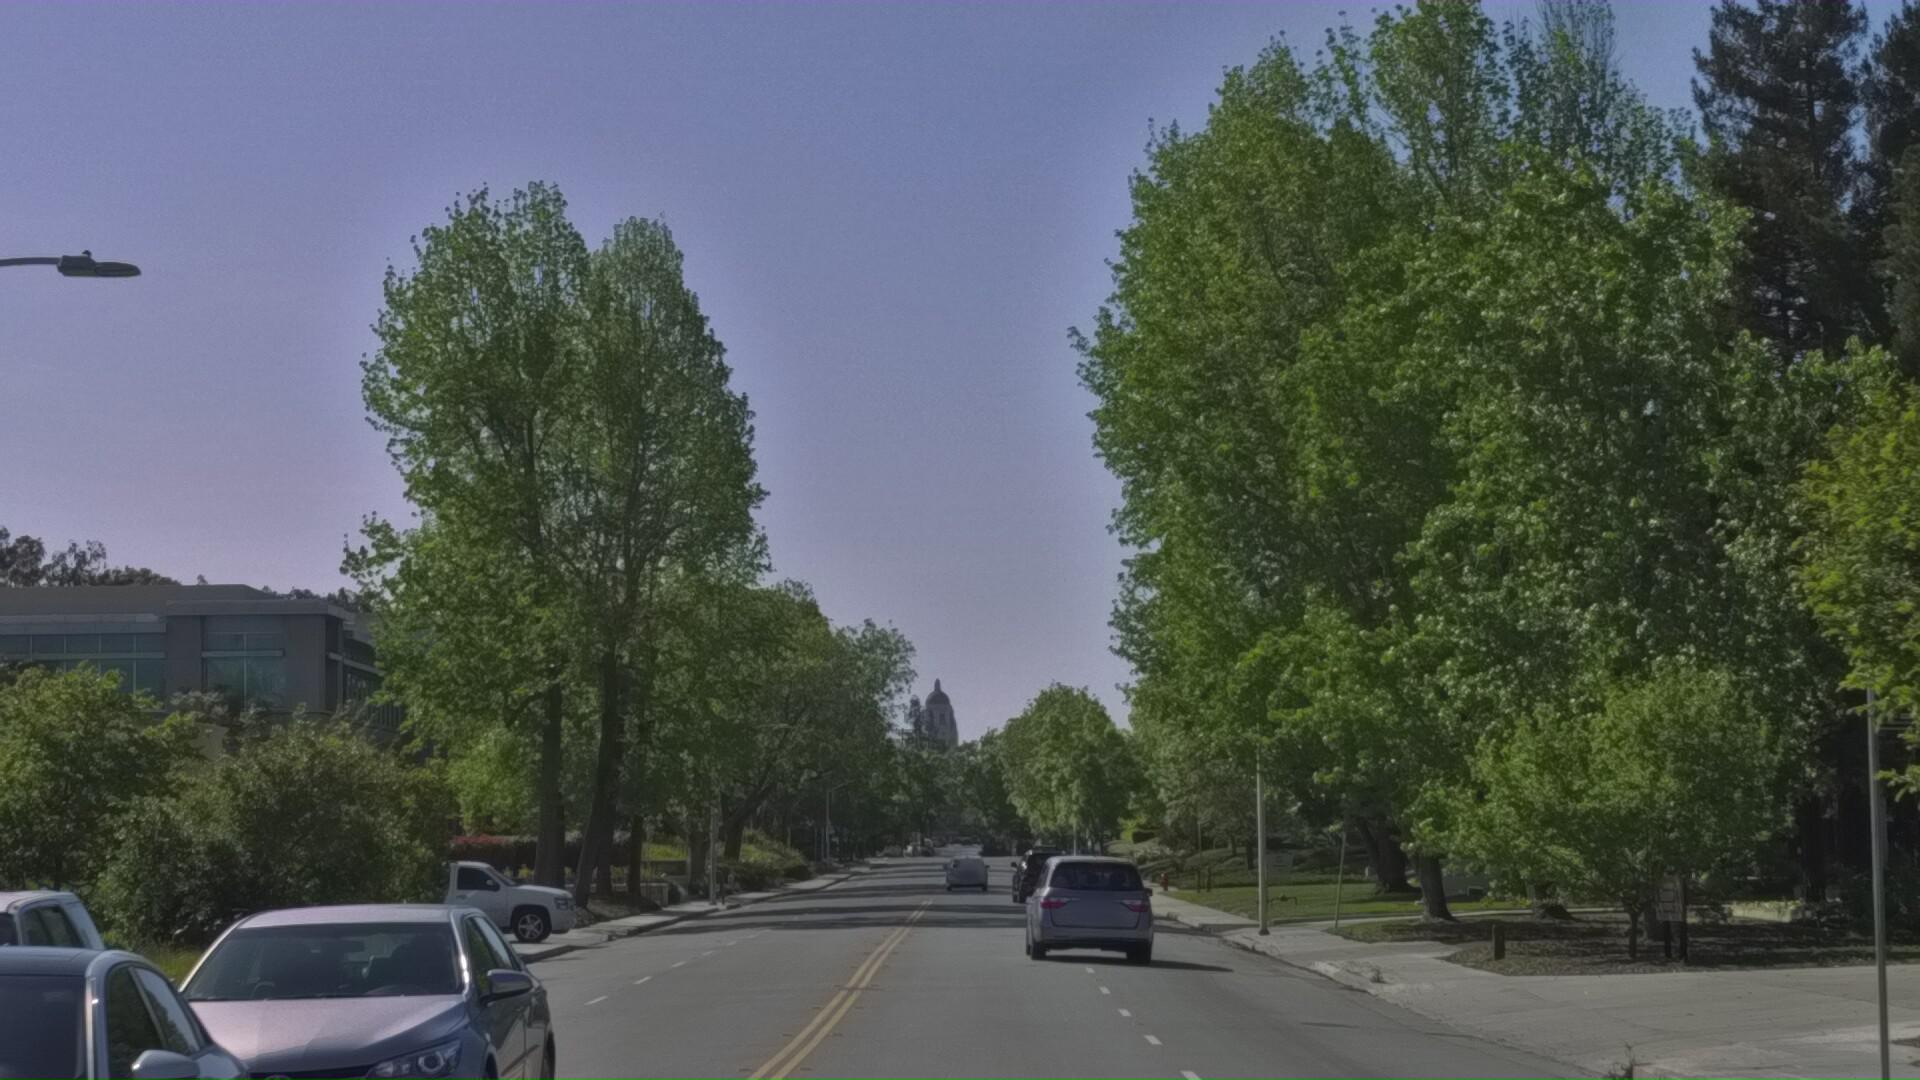car: (76, 977, 582, 1080), (0, 972, 306, 1080), (377, 961, 595, 1062), (0, 953, 140, 1080), (1025, 953, 1155, 1065)
